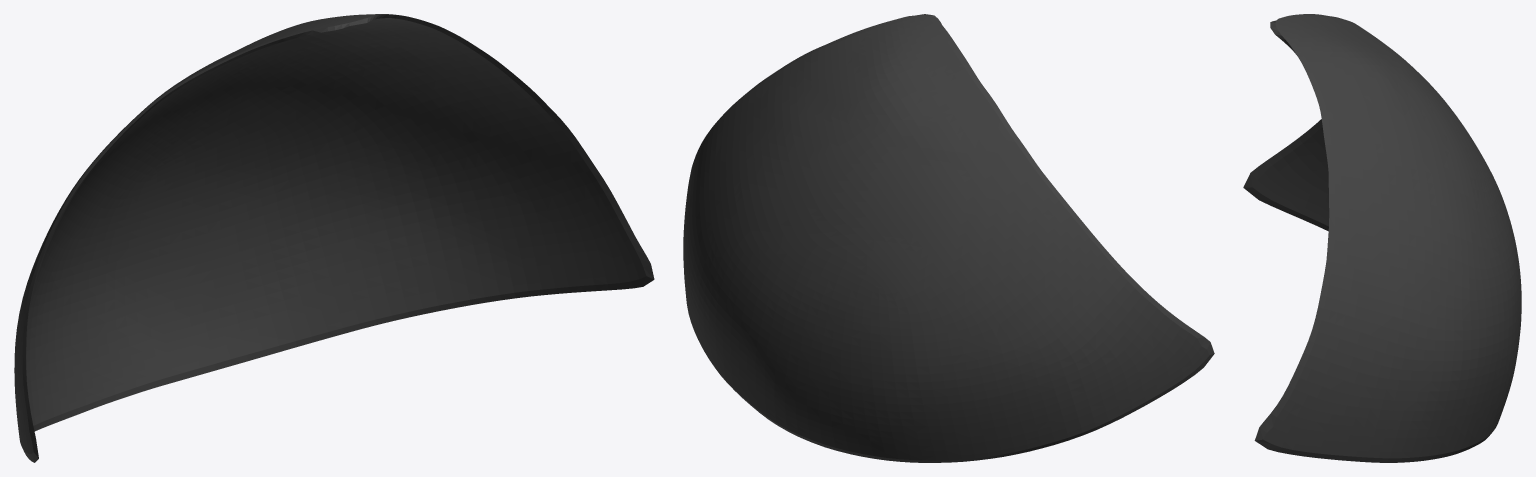
The model's file is Tapetum.glb.
3 renders of one model, left to right at view 1: azimuth 30°, elevation 25°; view 2: azimuth 150°, elevation 25°; view 3: azimuth 270°, elevation 25°, orthographic. The views are drawn at different scales.
Parts seen in each view (by area): view 1: Tapetum; view 2: Tapetum; view 3: Tapetum.
Boxes of the visible parts, box(x1,y1,x2,y2) form: Tapetum: box(14, 14, 654, 462); Tapetum: box(683, 14, 1214, 462); Tapetum: box(1243, 14, 1521, 462).
Bounding box in the file's own units: 1.74 × 1.17 × 0.7502.
Materials: 1 (1 with a texture image).
